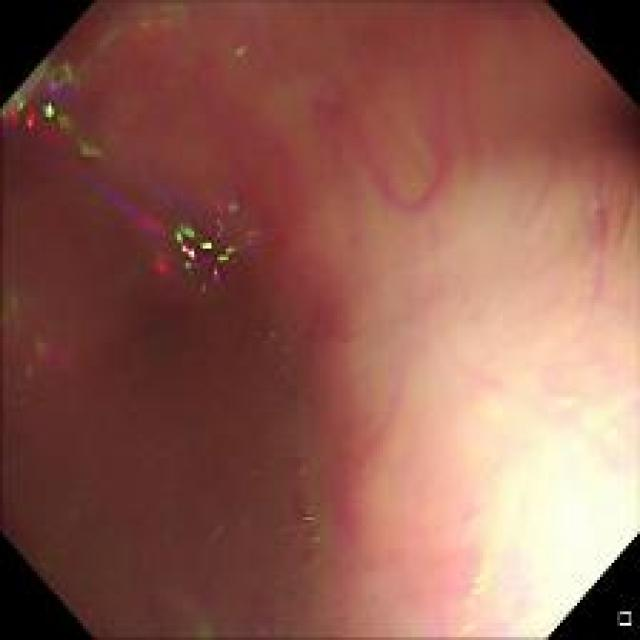blur: (30, 64, 456, 618)
bubbles: (300, 500, 326, 566), (264, 322, 282, 346), (285, 392, 305, 411), (294, 460, 311, 479)
color misalignment: (130, 188, 266, 289), (10, 62, 110, 156), (9, 298, 66, 371)
saturation: (498, 452, 631, 622)
